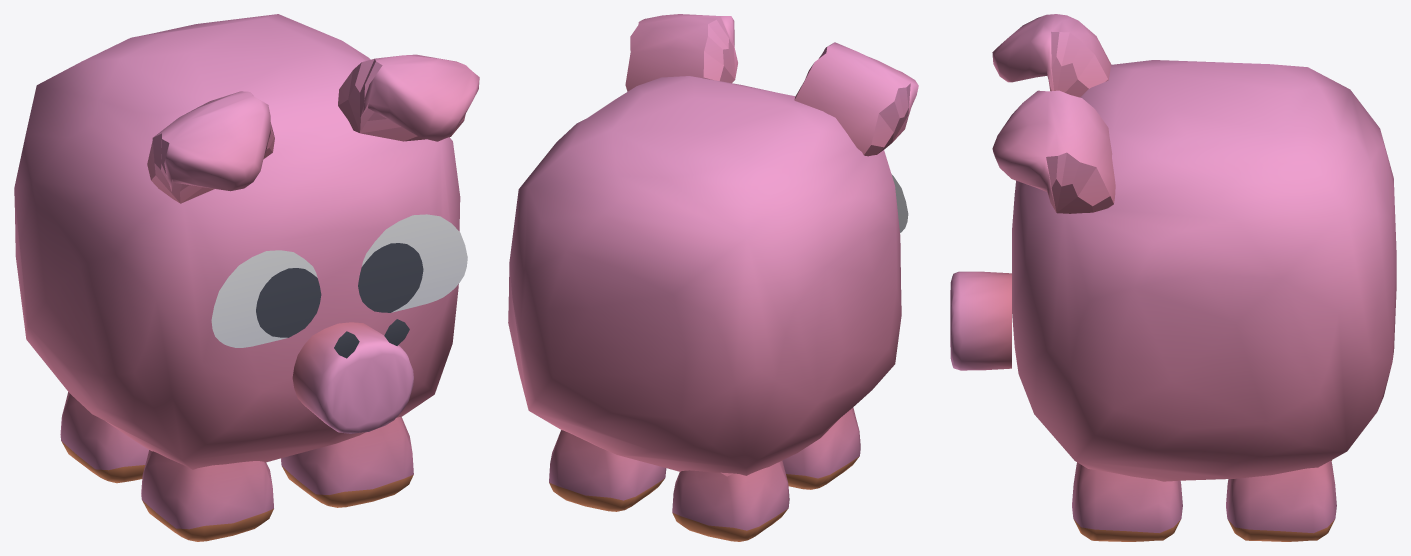
File: animal-pig3.glb
3 renders of one model, left to right at view 1: azimuth 30°, elevation 25°; view 2: azimuth 150°, elevation 25°; view 3: azimuth 270°, elevation 25°, orthographic. The views are drawn at different scales.
Visible parts, largest first — view 1: leg-front-right; view 2: leg-front-right; view 3: leg-front-right.
Part boxes in pixels (x1,y1,x2,y2): leg-front-right: (14,14,479,541); leg-front-right: (508,14,918,541); leg-front-right: (950,14,1396,541).
Size of the model in its own units: 1.25 by 1.56 by 1.46.
1 material, 1 textured.
